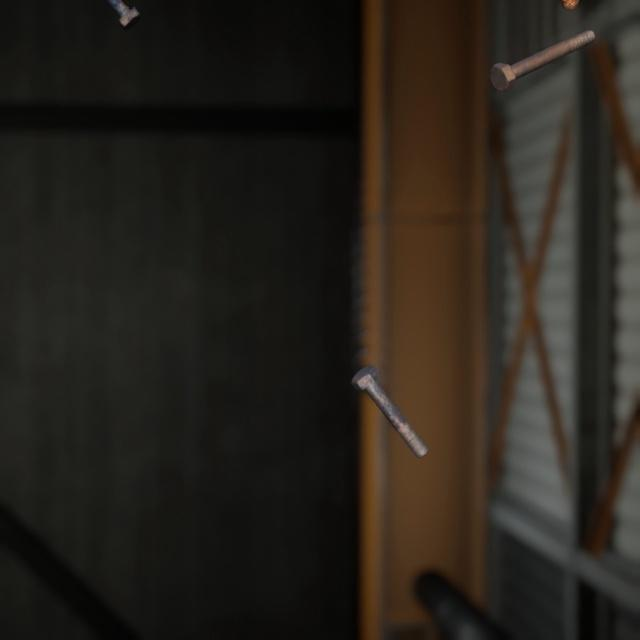bolt: (346, 341, 433, 443), (485, 15, 599, 86), (106, 0, 144, 28)
